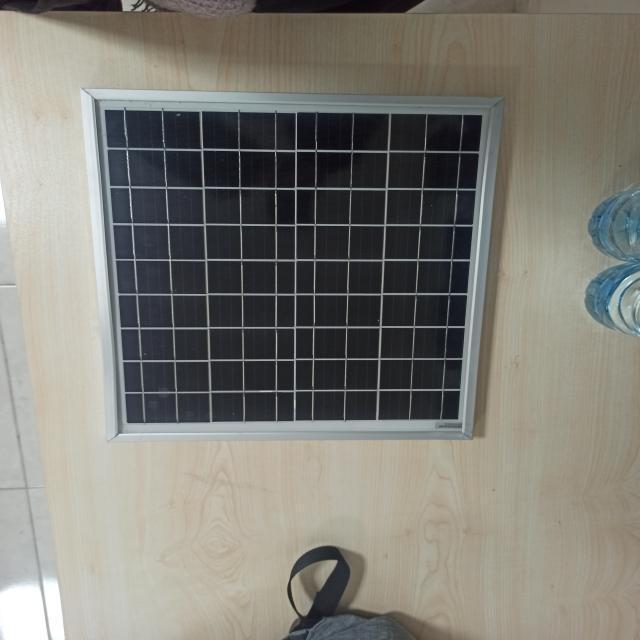Photovoltaic-Panel: (106, 100, 498, 437)
